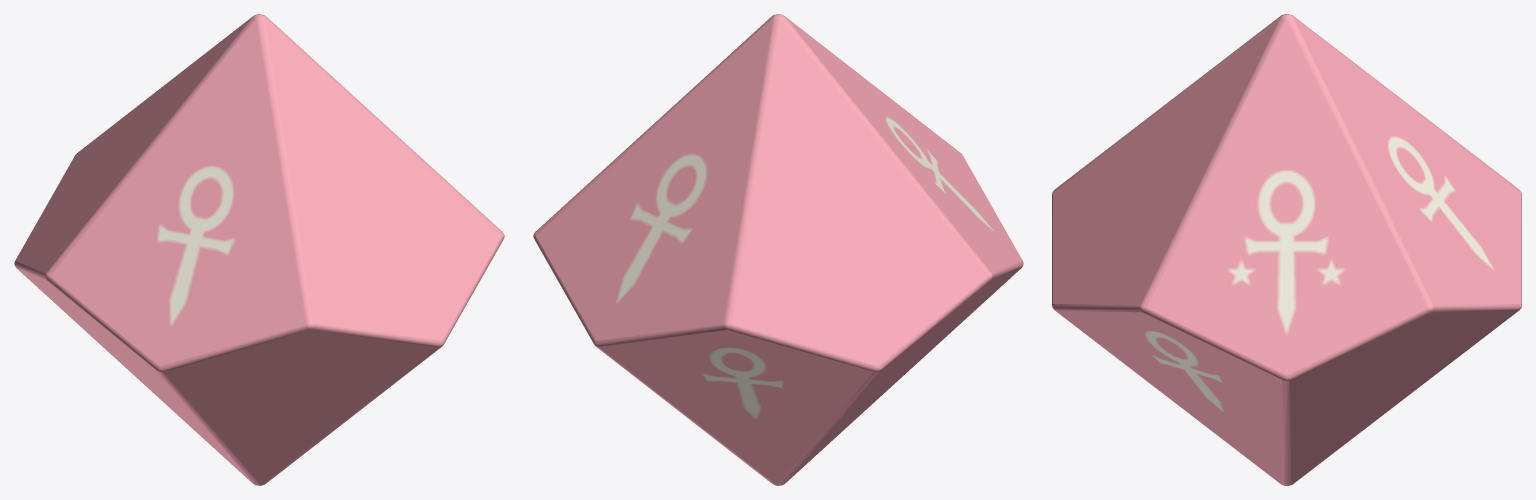
File: vtmruby_d10.glb
3 renders of one model, left to right at view 1: azimuth 30°, elevation 25°; view 2: azimuth 150°, elevation 25°; view 3: azimuth 270°, elevation 25°, orthographic.
Visible parts, largest first — view 1: vtmruby_shell; view 2: vtmruby_shell; view 3: vtmruby_shell.
Boxes of the visible parts, x1,y1,x2,y2 form: vtmruby_shell: [14, 14, 504, 485]; vtmruby_shell: [533, 14, 1023, 485]; vtmruby_shell: [1052, 14, 1521, 485].
Bounding box in the file's own units: 1.86 × 1.95 × 1.77.
Materials: 3 (1 with a texture image).
